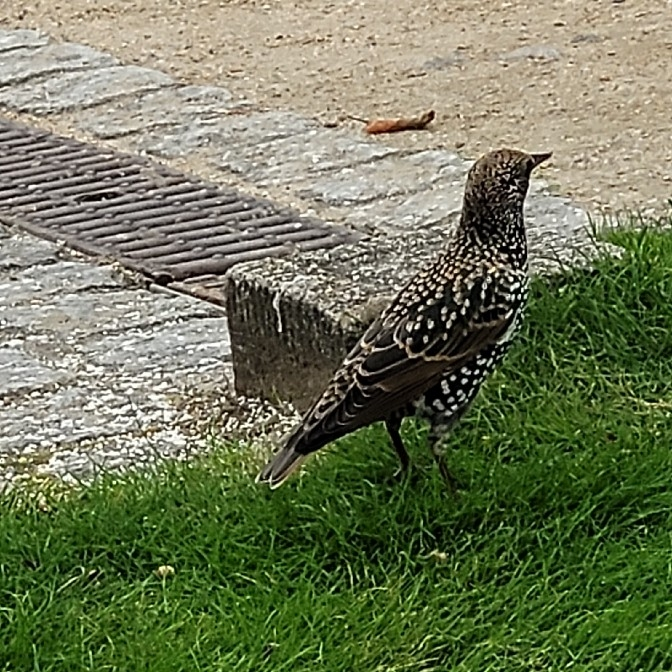Not_a_Chicken: (266, 142, 565, 507)
